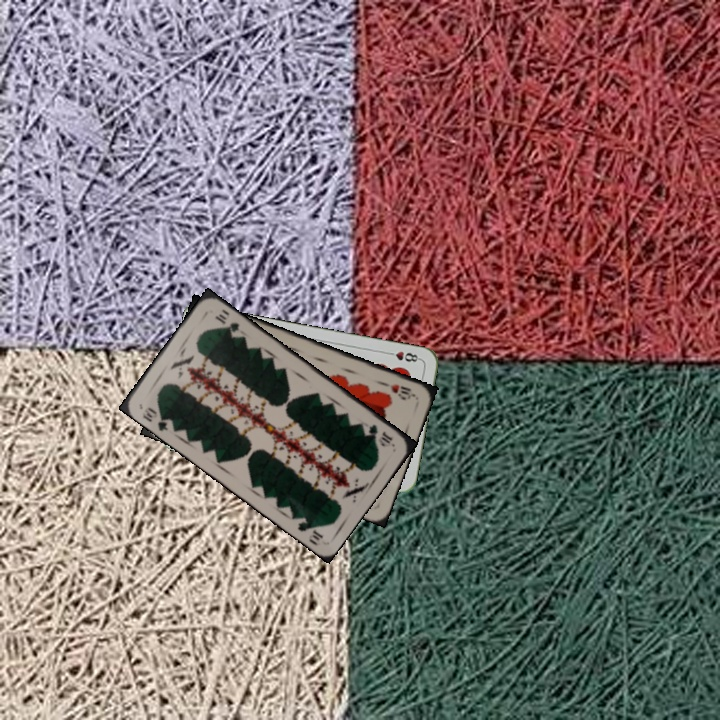G10: (138, 403, 176, 434), (364, 420, 395, 448)
H10: (378, 378, 417, 402)
H8: (383, 347, 423, 365)
